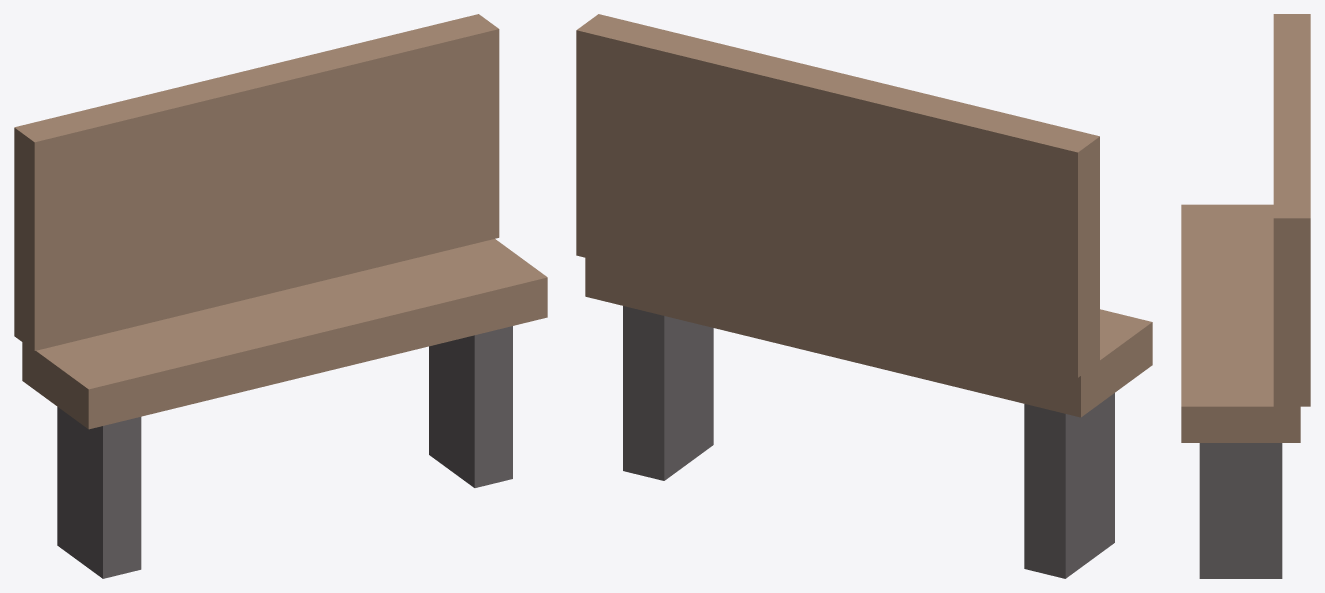
The model's file is public_timber_bench.glb.
3 views of the same model, side by side, from view 1: azimuth 30°, elevation 25°; view 2: azimuth 150°, elevation 25°; view 3: azimuth 270°, elevation 25° (orthographic). The views are drawn at different scales.
Visible parts, largest first — view 1: box_3, box_0, box_1, box_2; view 2: box_3, box_0, box_1, box_2; view 3: box_0, box_3, box_2.
Part boxes in pixels (bbox=[...]): box_3: bbox=[14, 14, 499, 350]; box_0: bbox=[22, 239, 547, 429]; box_1: bbox=[57, 407, 141, 578]; box_2: bbox=[429, 326, 512, 487]; box_3: bbox=[576, 14, 1099, 377]; box_0: bbox=[585, 258, 1152, 417]; box_1: bbox=[1024, 393, 1114, 578]; box_2: bbox=[623, 306, 713, 480]; box_0: bbox=[1181, 204, 1300, 442]; box_3: bbox=[1273, 14, 1310, 406]; box_2: bbox=[1199, 443, 1282, 578].
Bounding box in the file's own units: 1.7 × 1.45 × 0.455.
